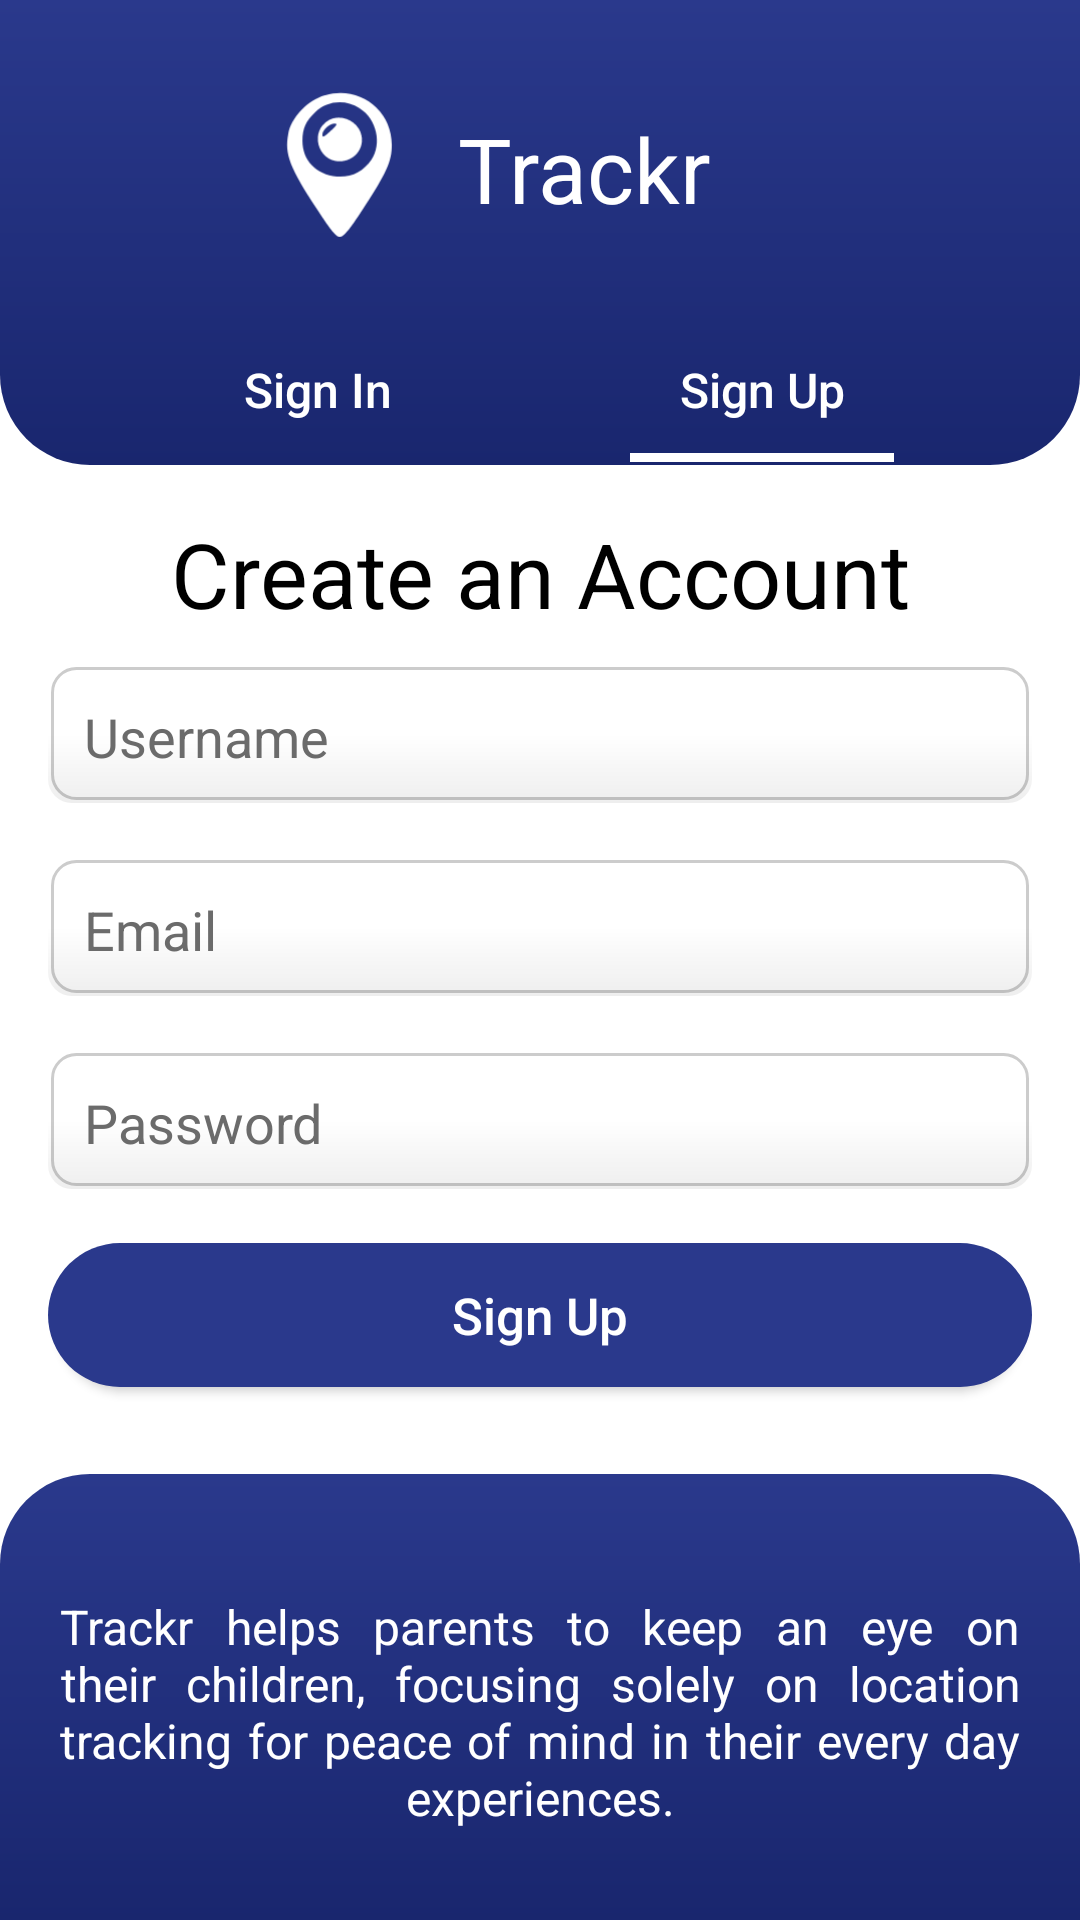

Icon bounding boxes for this 1080w x 1920h phone screenshot, format [left=x1, top=y1, right=x2, bottom=y2]:
location: [left=287, top=92, right=392, bottom=237]
